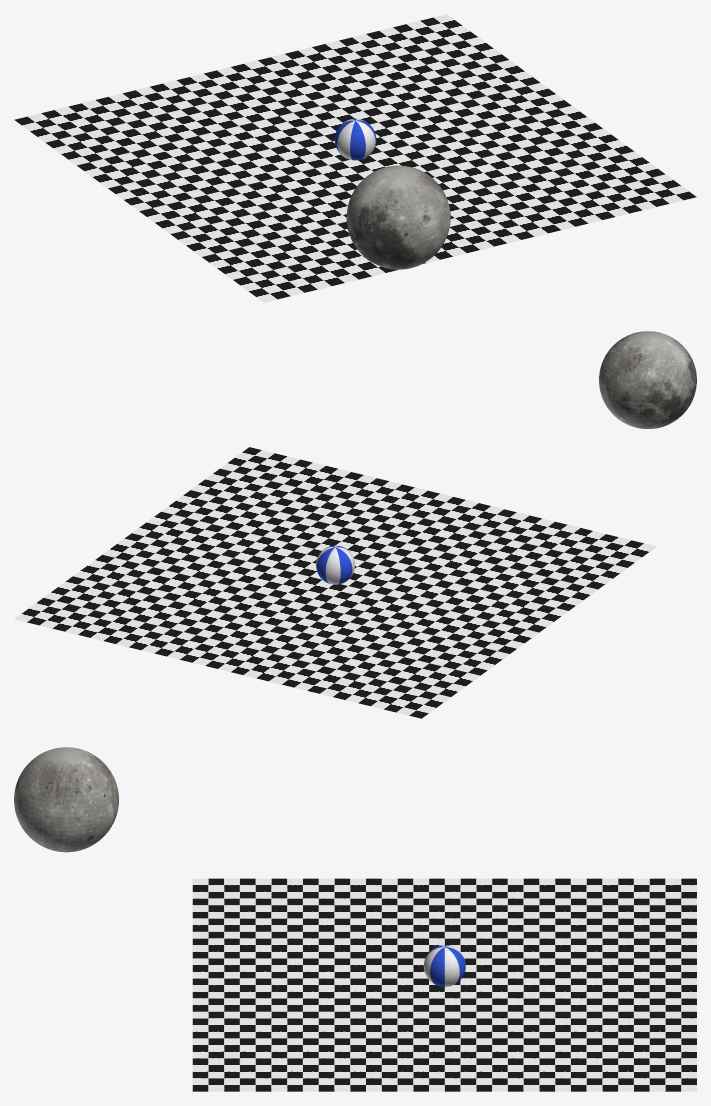
The model's file is ClockSample.obj.
3 views of the same model, one above another, from view 1: azimuth 30°, elevation 25°; view 2: azimuth 150°, elevation 25°; view 3: azimuth 270°, elevation 25° (orthographic). The views are drawn at different scales.
Visible parts, largest first — view 1: Ground, Moon, BallBig; view 2: Ground, Moon, BallBig; view 3: Ground, Moon, BallBig.
Part boxes in pixels (<box>): Ground: <box>14,14,696,302</box>; Moon: <box>346,165,450,269</box>; BallBig: <box>334,118,376,160</box>; Ground: <box>14,447,656,718</box>; Moon: <box>599,331,696,428</box>; BallBig: <box>316,545,354,584</box>; Ground: <box>192,878,696,1091</box>; Moon: <box>14,747,118,852</box>; BallBig: <box>423,945,465,986</box>.
Size of the model in its own units: 24 by 8.5 by 32.5.
3 materials, 3 textured.
